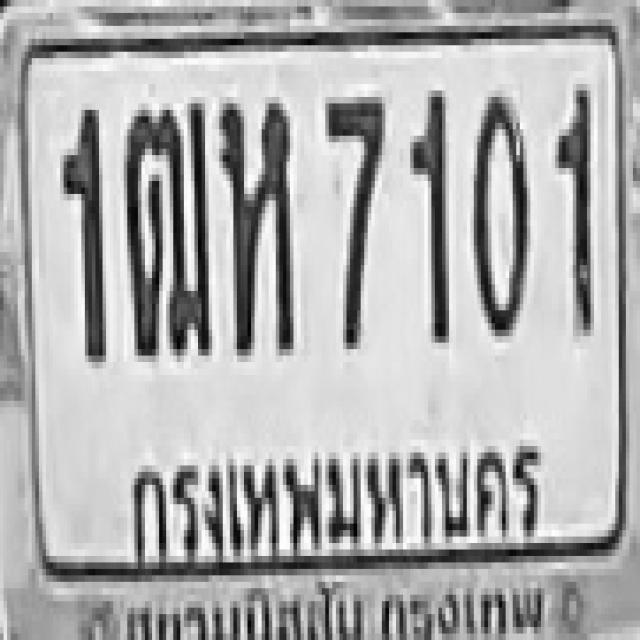0: (470, 91, 527, 336)
1: (60, 103, 103, 362), (406, 84, 446, 336), (555, 81, 591, 333)
27ThorPhuThao: (124, 97, 208, 356)
50HorHeep: (219, 97, 290, 349)
7: (322, 90, 382, 342)
Bangkok: (115, 392, 556, 566)
